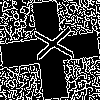X: (25, 25, 74, 64)
